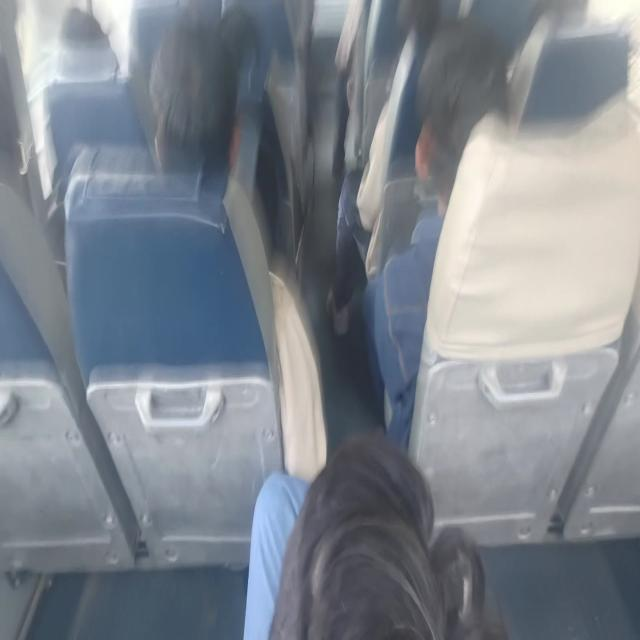person: (272, 418, 474, 640), (423, 36, 511, 208), (142, 26, 239, 174), (47, 6, 114, 91), (212, 7, 260, 85)
